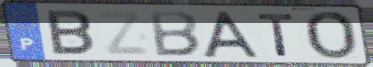A: (200, 10, 262, 60)
B: (44, 8, 97, 57), (148, 10, 202, 58)
O: (302, 10, 359, 61)
T: (256, 12, 298, 58)
Z: (95, 10, 152, 57)
